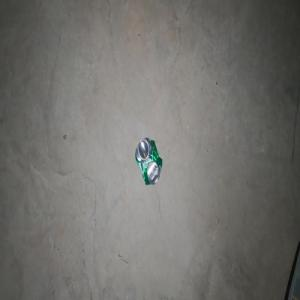SodaCan: (134, 136, 162, 185)
